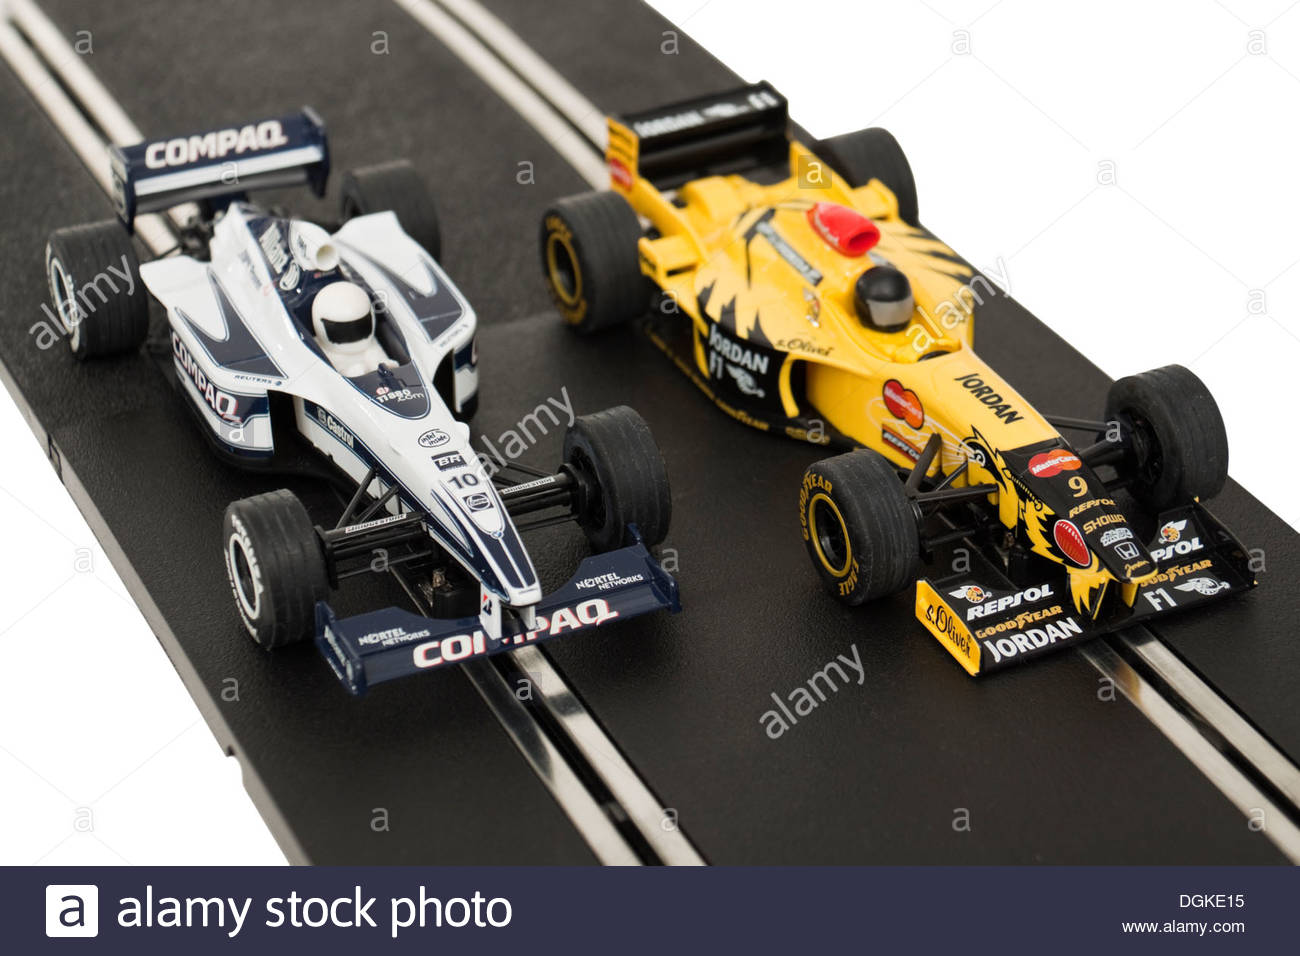f1_car: (531, 63, 1280, 708), (34, 91, 714, 701)
helmet: (299, 273, 387, 358), (846, 257, 925, 342)
